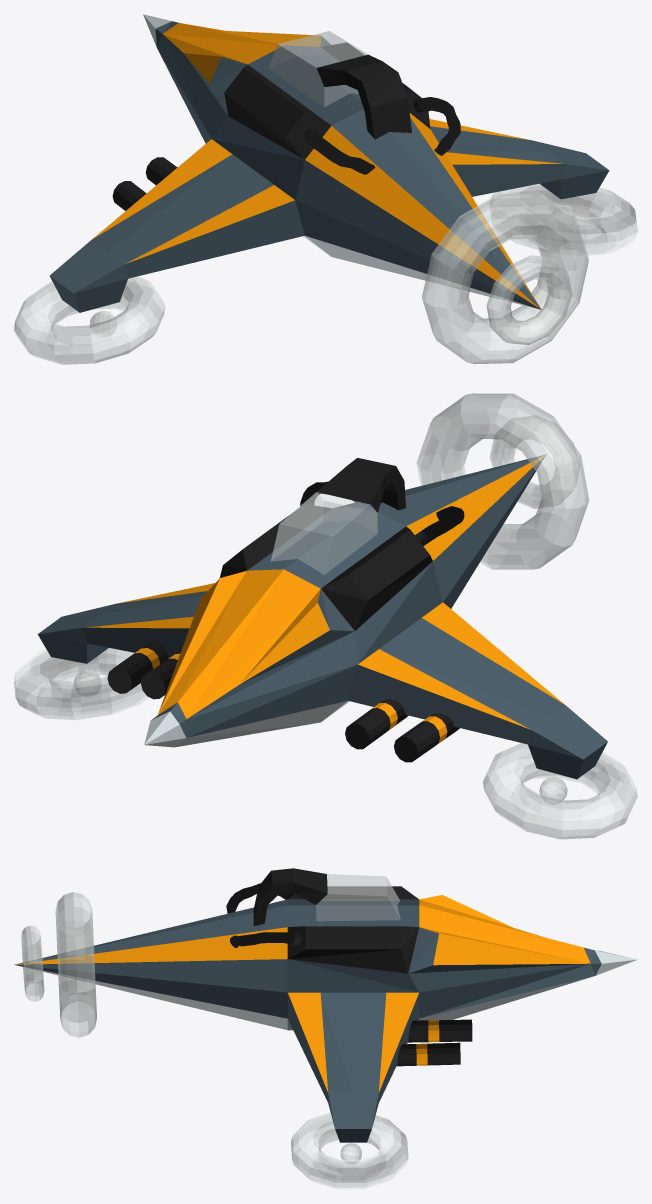
The model's file is SpaceShip.glb.
The picture shows the model from 3 angles, top to bottom: view 1: azimuth 30°, elevation 25°; view 2: azimuth 150°, elevation 25°; view 3: azimuth 270°, elevation 25°; orthographic projection. The views are drawn at different scales.
Visible parts, largest first — view 1: Node; view 2: Node; view 3: Node.
Part boxes in pixels (box(x1,y1,x2,y2)): Node: box(14, 14, 637, 364); Node: box(14, 393, 637, 839); Node: box(14, 868, 637, 1189).
Size of the model in its own units: 0.4952 by 0.2063 by 0.5697.
